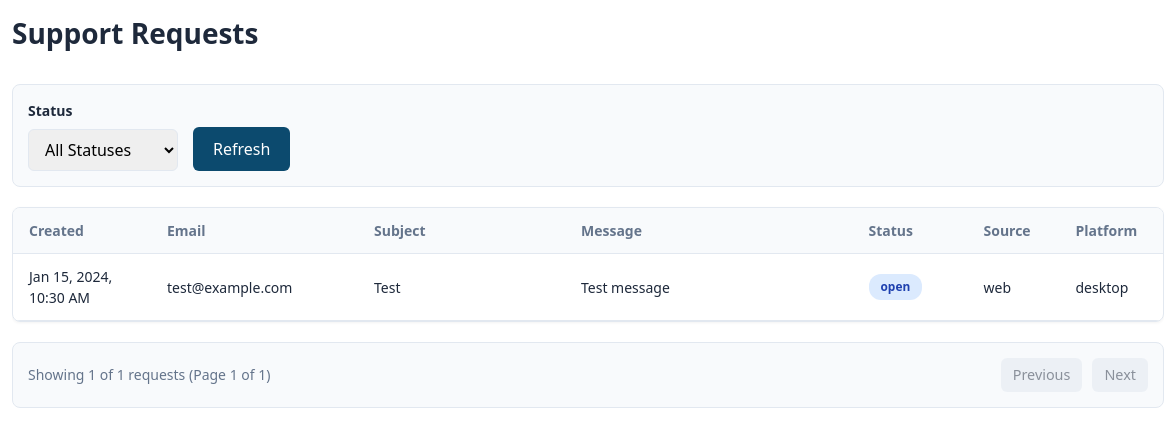
Test: SupportRequestsPanel › filters support requests by status
Expected: the text "test@example.com" is shown, [151, 254, 358, 320]
Select "Closed" in the dropdown labelled "Status": (103, 150) [28, 129, 178, 171]
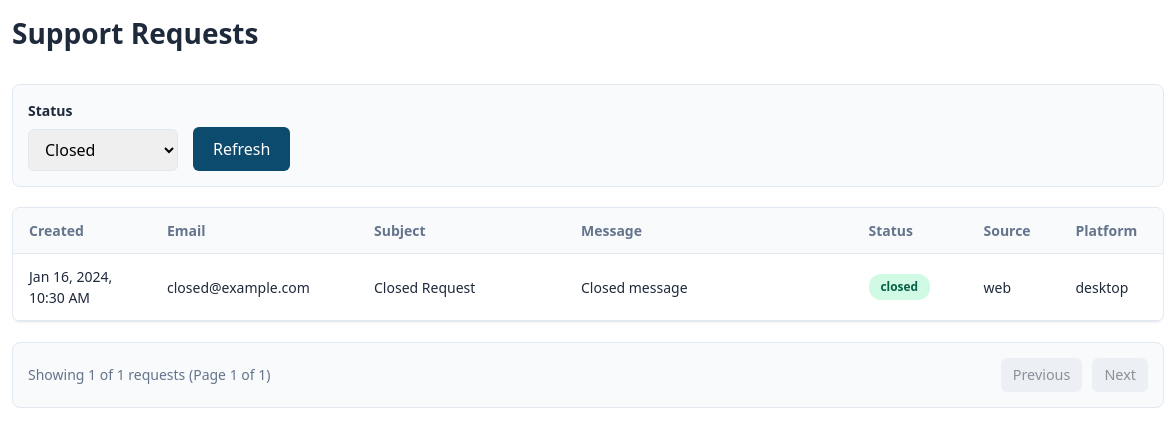
Expected: the text "closed@example.com" is shown, [151, 254, 358, 320]
Expected: the text "test@example.com" is gone
